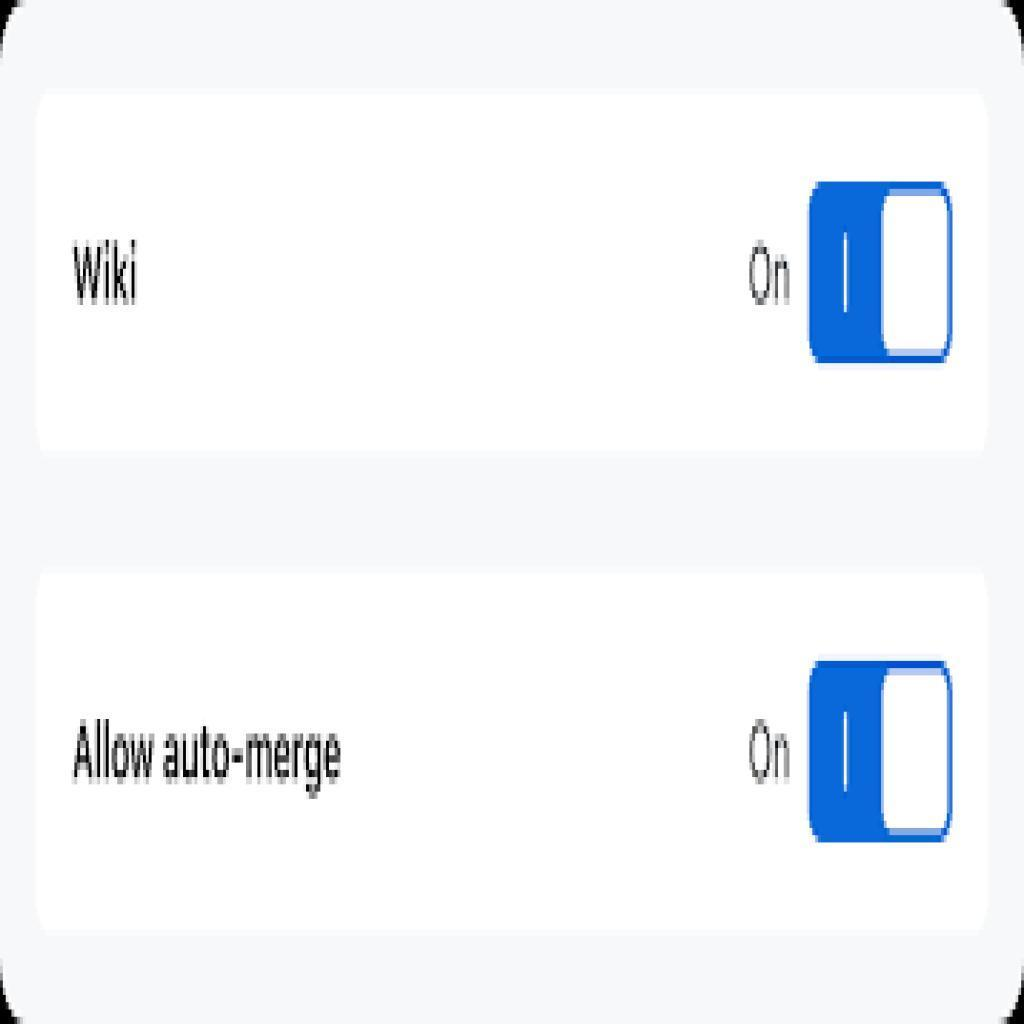switch: (809, 185, 955, 365), (811, 661, 953, 843)
